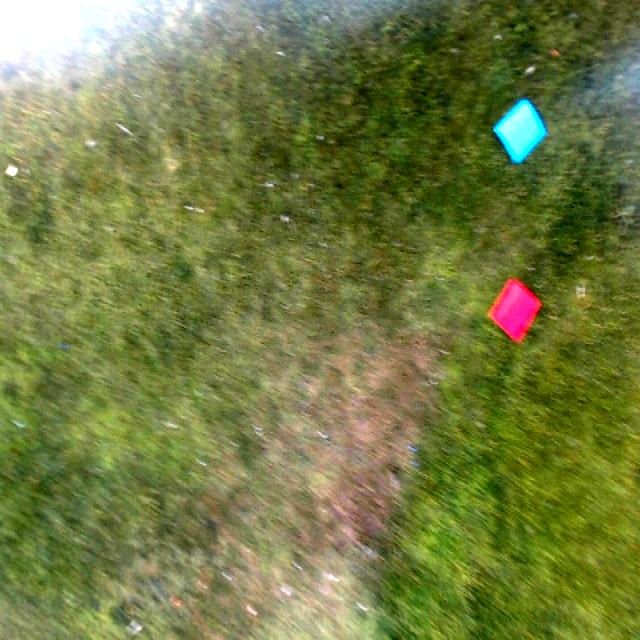blue_square: (494, 98, 547, 168)
red_square: (486, 279, 544, 344)
